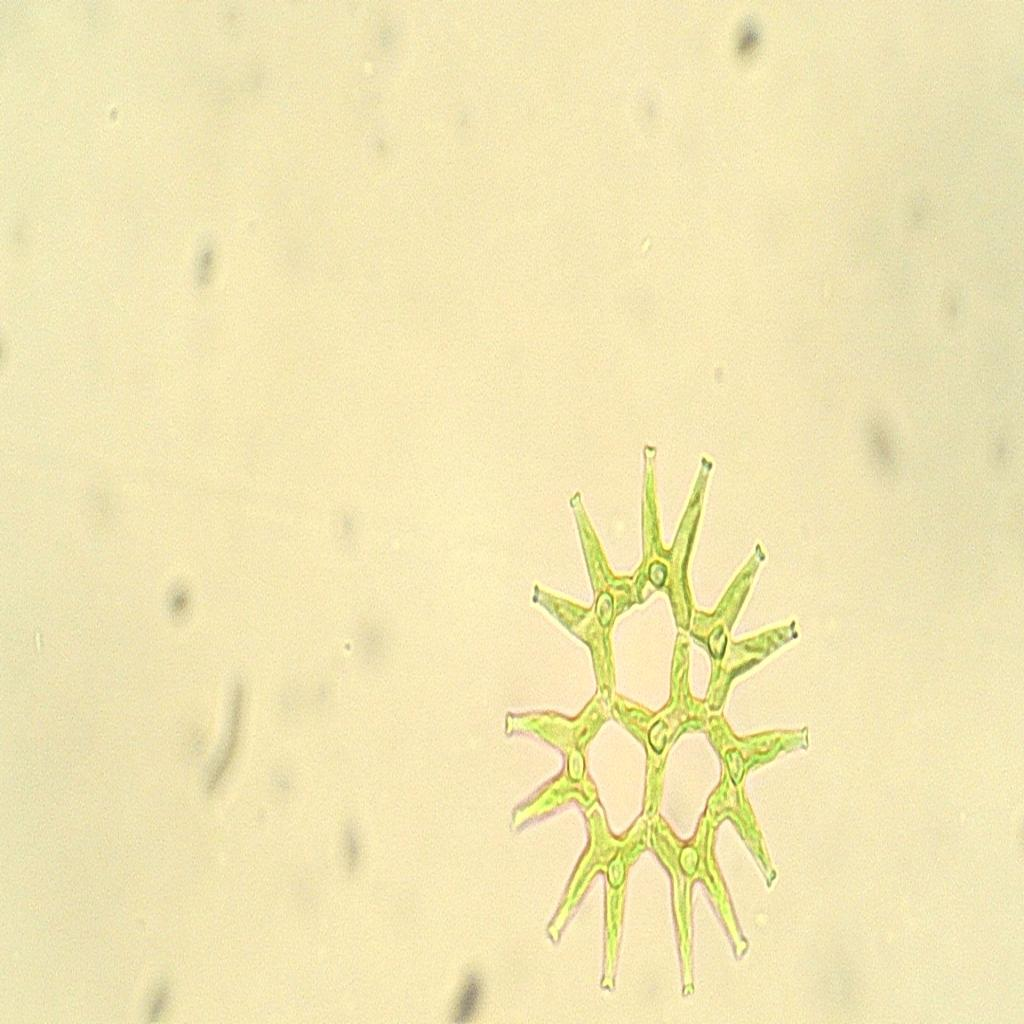Pediastrum_1T: (489, 406, 833, 1009)
